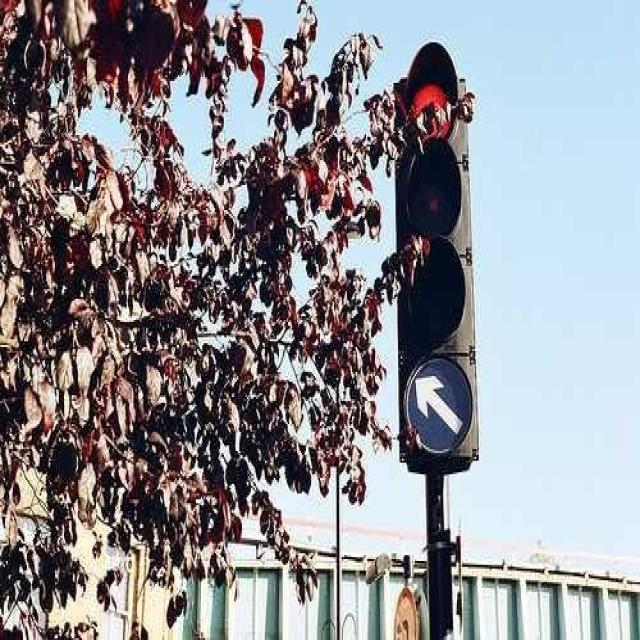Traffic Light -Red-: (391, 38, 487, 466)
